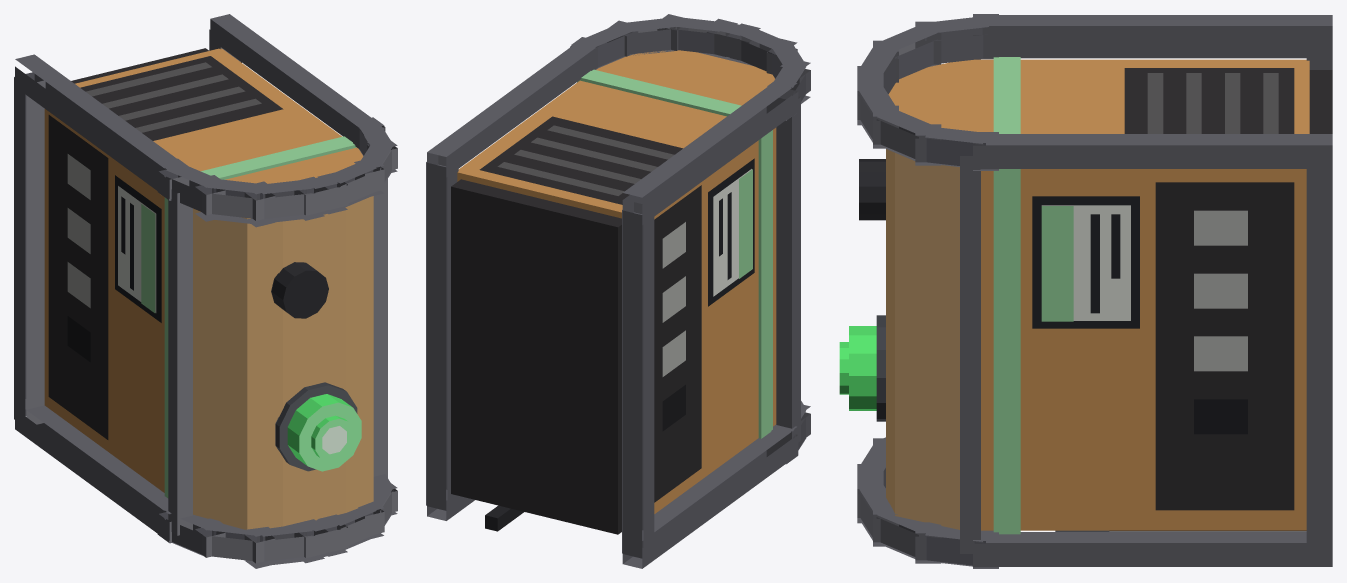
Rendered from backup_ground_premium_on_E.obj.
3 renders of one model, left to right at view 1: azimuth 30°, elevation 25°; view 2: azimuth 150°, elevation 25°; view 3: azimuth 270°, elevation 25°, orthographic. The views are drawn at different scales.
Parts seen in each view (by area): view 1: backup_ground_premium_on_E; view 2: backup_ground_premium_on_E; view 3: backup_ground_premium_on_E.
Part boxes in pixels (x1,y1,x2,y2): backup_ground_premium_on_E: [14, 14, 397, 568]; backup_ground_premium_on_E: [426, 14, 810, 568]; backup_ground_premium_on_E: [839, 14, 1332, 568].
Size of the model in its own units: 0.377 by 0.6265 by 0.6405.
1 material, 1 textured.
